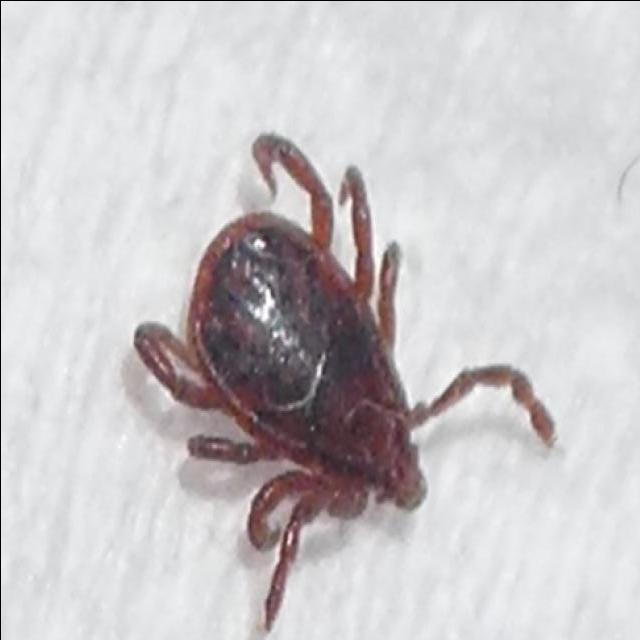Rhipicephalus Sanguineus-M: (132, 130, 553, 629)
